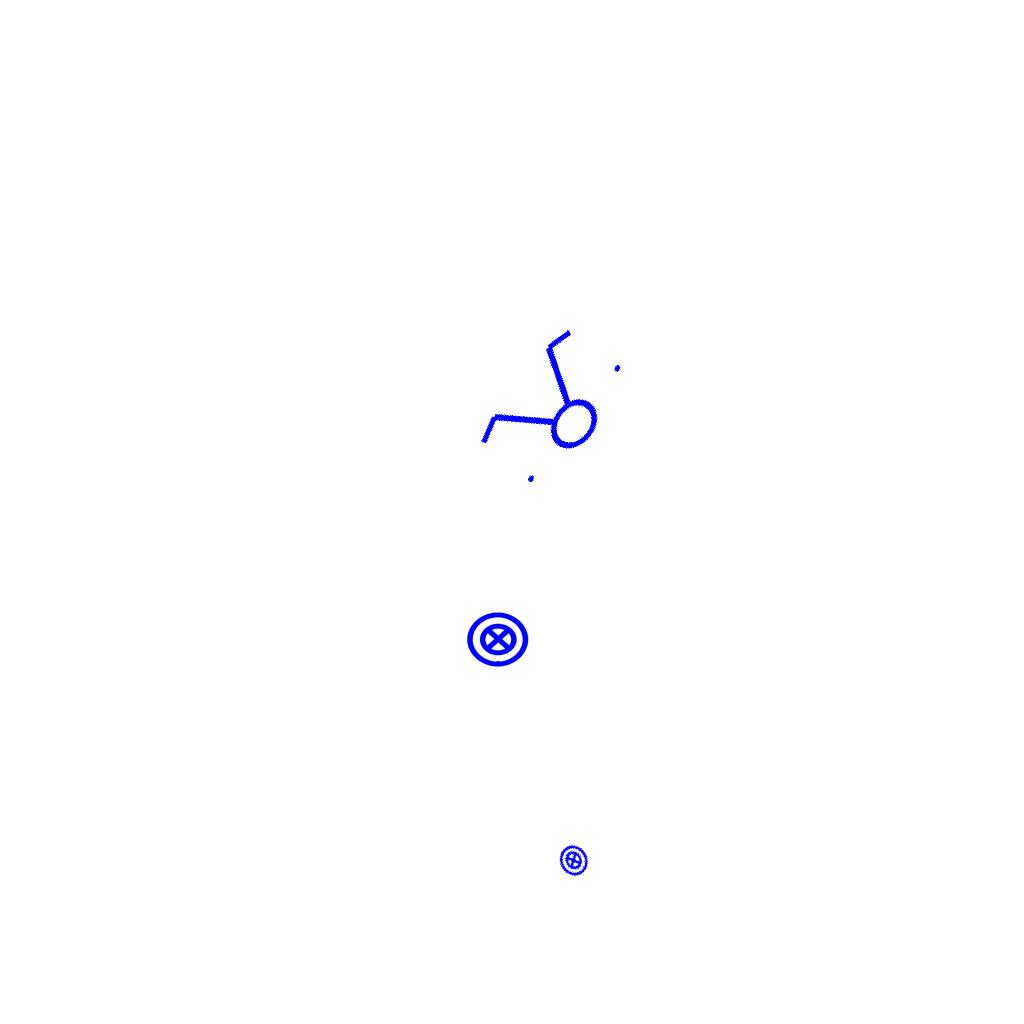Serienschalter: (463, 313, 643, 505)
Taster_beleuchtet: (465, 606, 531, 672), (551, 838, 596, 883)
